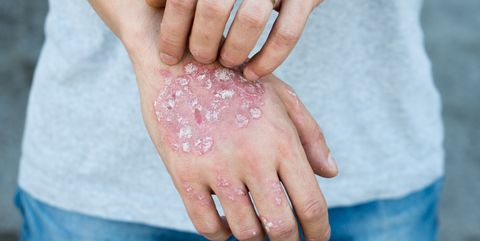Diseased: (137, 43, 313, 220)
